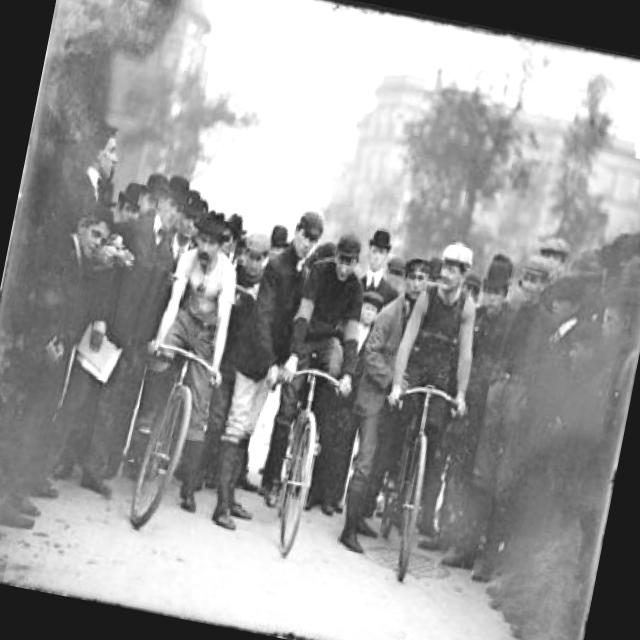Person: (22, 114, 586, 572), (42, 160, 200, 500), (436, 246, 570, 590), (118, 200, 260, 516), (364, 227, 502, 540), (204, 204, 327, 536), (531, 278, 640, 640), (0, 194, 121, 520), (256, 220, 386, 517), (328, 248, 434, 552), (302, 285, 389, 523), (516, 306, 618, 487), (201, 226, 274, 470), (356, 223, 414, 304)
